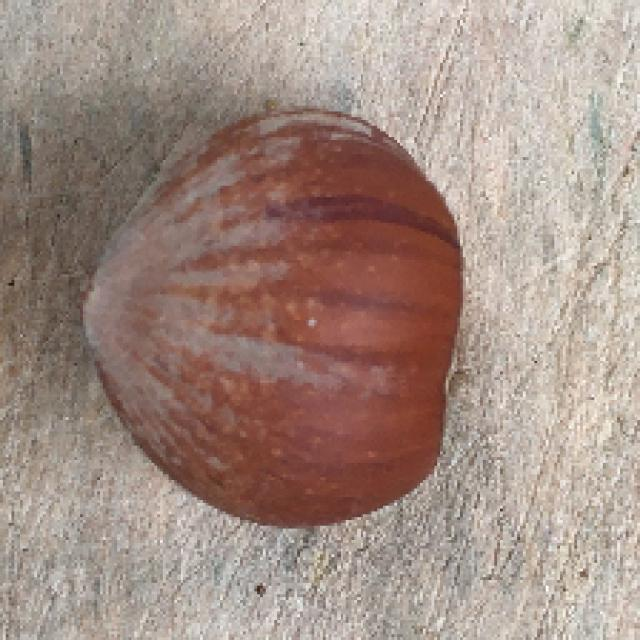QualityHazelnut: (82, 112, 467, 527)
